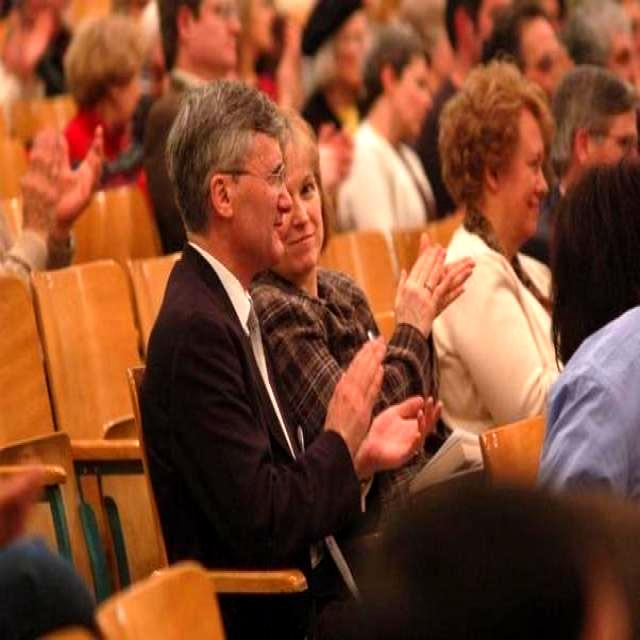no_hard_hat: (302, 0, 364, 54)
no_head_wear: (439, 61, 553, 203), (167, 80, 286, 213), (553, 64, 636, 166), (65, 14, 144, 101), (364, 21, 428, 93), (484, 0, 552, 59), (279, 106, 319, 171), (156, 0, 200, 35)
person: (141, 82, 438, 552), (250, 114, 472, 552), (433, 62, 557, 432), (144, 0, 239, 250), (339, 26, 435, 230), (543, 66, 639, 238), (63, 14, 144, 190), (484, 0, 571, 104), (302, 0, 368, 131)
